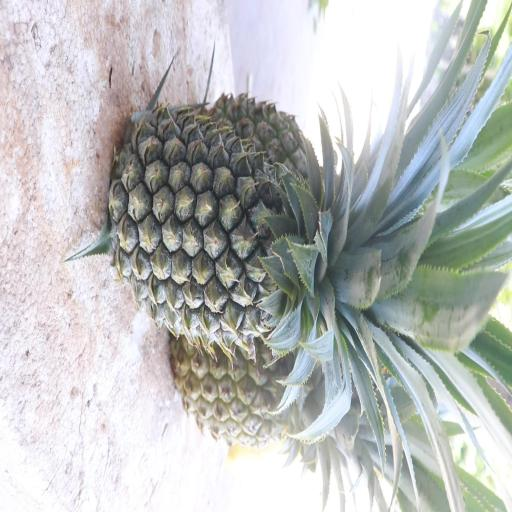------------------------------: (171, 330, 415, 502)
